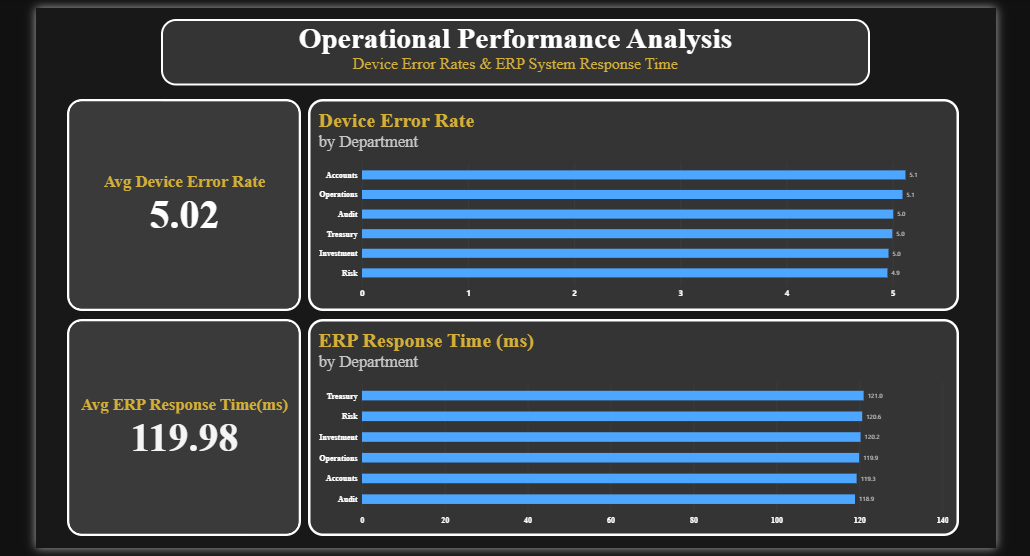

The page's visual inventory and layout, read from the dashboard file:
{"tool":"powerbi","page":{"name":"Operational Performance","canvas":[1920,1080],"ordinal":1},"visuals":[{"type":"clusteredBarChart","title":"Device Error Rate","fields":{"Category":["Dim_Department.Department"],"Y":["Avg(Fact_Financial_Performance.Device_Error_Rate)"]},"box":[544,182,1302,424],"z":0},{"type":"clusteredBarChart","title":" ERP Response Time (ms)","fields":{"Category":["Dim_Department.Department"],"Y":["Avg(Fact_Financial_Performance.ERP_Response_Time_ms)"]},"box":[544,622,1302,434],"z":1000},{"type":"textbox","box":[250,22.5,1417.5,132.5],"z":2000},{"type":"cardVisual","fields":{"Data":["Avg(Fact_Financial_Performance.ERP_Response_Time_ms)"]},"box":[62,622,468,434],"z":3000},{"type":"cardVisual","fields":{"Data":["Avg(Fact_Financial_Performance.Device_Error_Rate)"]},"box":[62,182,468,424],"z":4000}]}

Visuals, with their boxes in screenshot pixels (x1, y1, x2, y2):
"Device Error Rate" clusteredBarChart: select_region(304, 100, 940, 307)
" ERP Response Time (ms)" clusteredBarChart: select_region(304, 315, 940, 527)
textbox: select_region(160, 22, 853, 87)
cardVisual - Avg(Fact_Financial_Performance.ERP_Response_Time_ms): select_region(68, 315, 297, 527)
cardVisual - Avg(Fact_Financial_Performance.Device_Error_Rate): select_region(68, 100, 297, 307)
